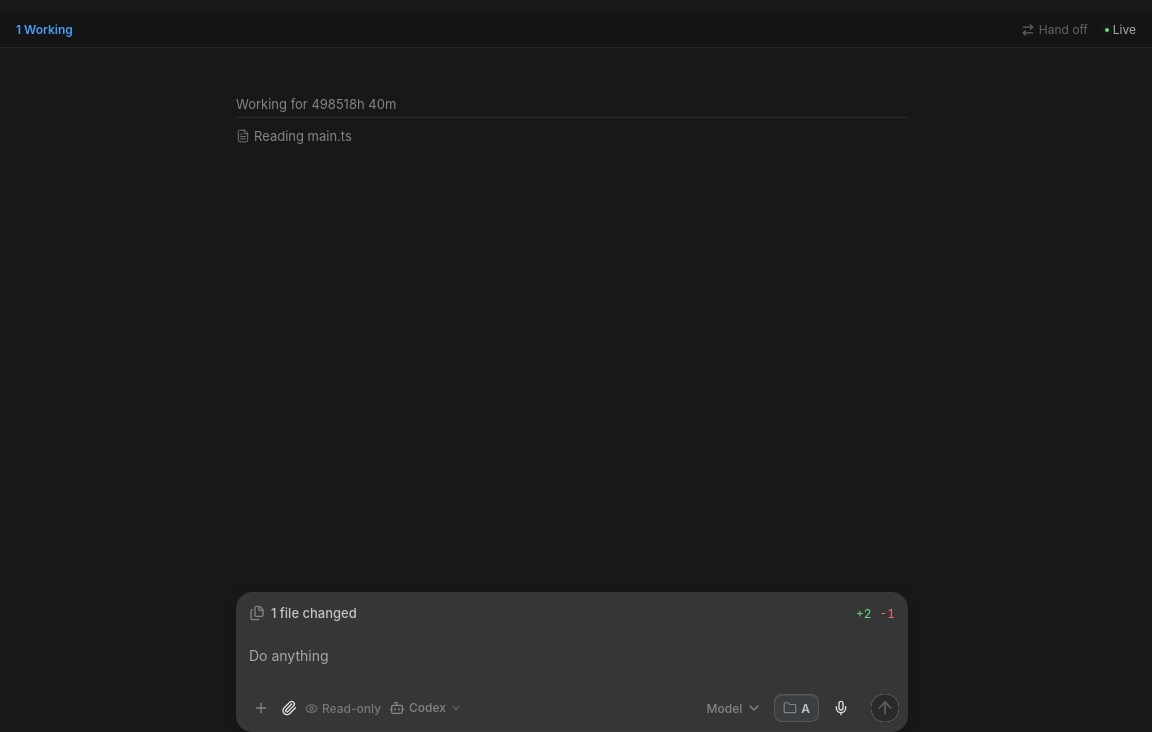
Scenario: ChatSurface ACP resource integration › queues a message during a turn and sends it when the turn finishes
Type "Follow up" into the dropdown named "Message agent" at coordinates (572, 662), box [237, 633, 907, 691]
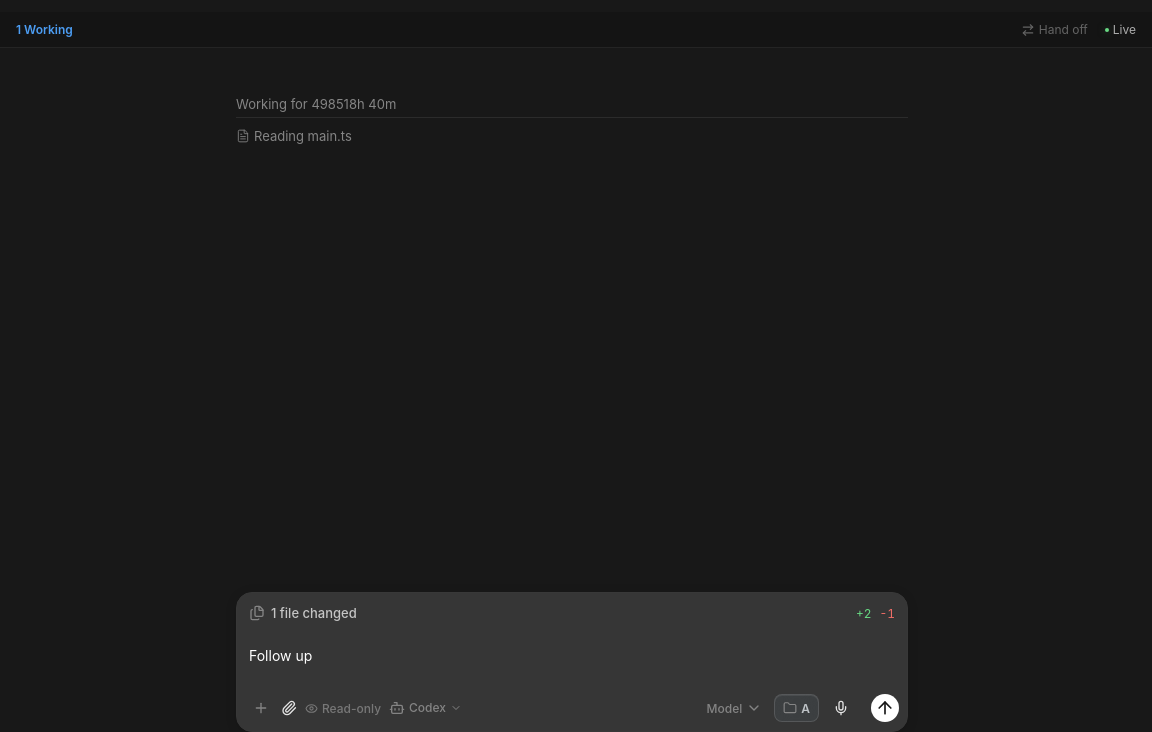
Click the button named "Queue message" at coordinates (885, 708), box [871, 694, 899, 722]
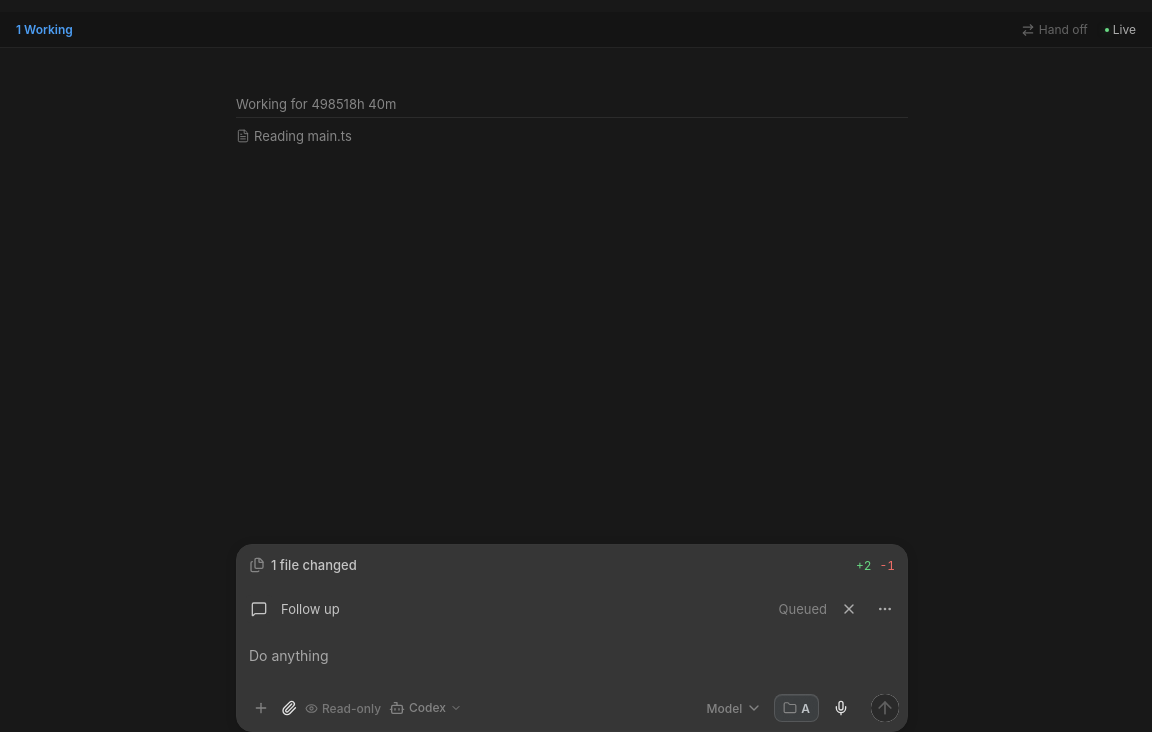
expect the dropdown named "Message agent" is empty: met, box [237, 633, 907, 691]
expect the text "Follow up" is shown: met, box [281, 601, 340, 617]
